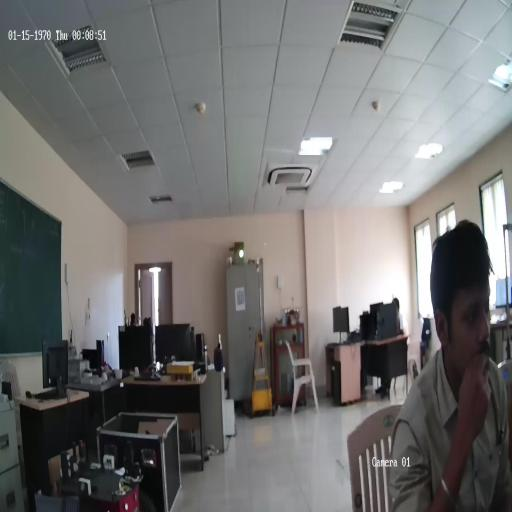laser: (238, 248, 244, 258)
